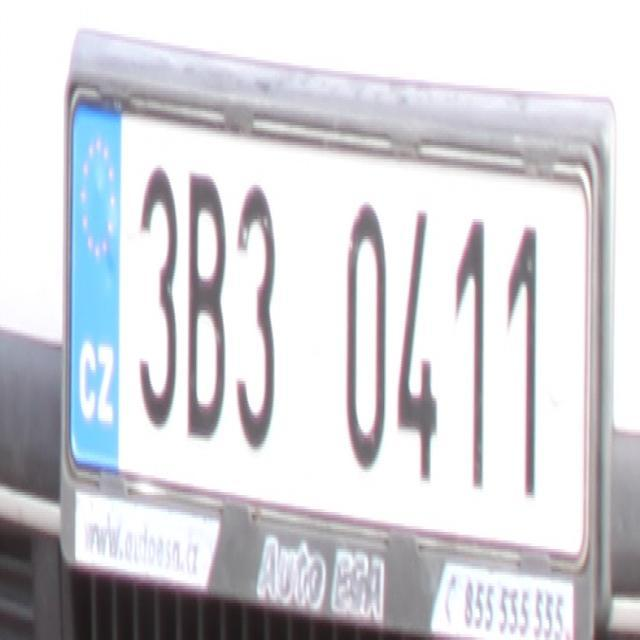0: (344, 196, 388, 469)
1: (506, 216, 540, 512), (456, 211, 488, 492)
3: (136, 165, 178, 424), (235, 182, 274, 444)
4: (397, 208, 441, 492)
B: (185, 168, 223, 444)
